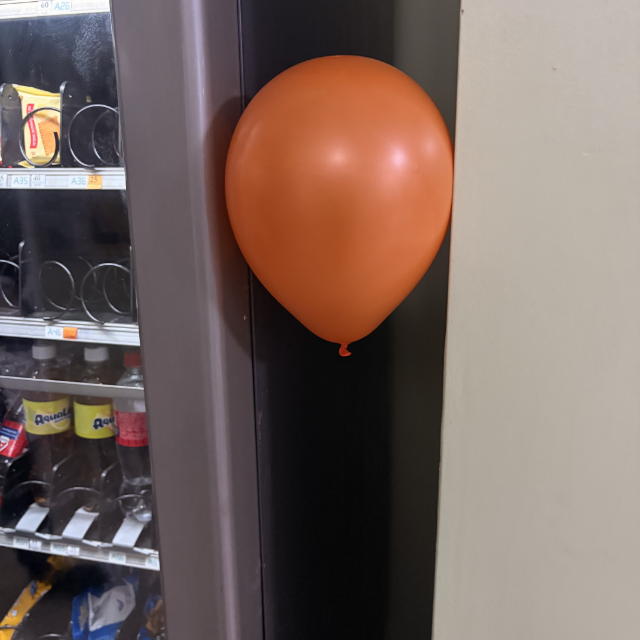balloon: (223, 54, 454, 357)
